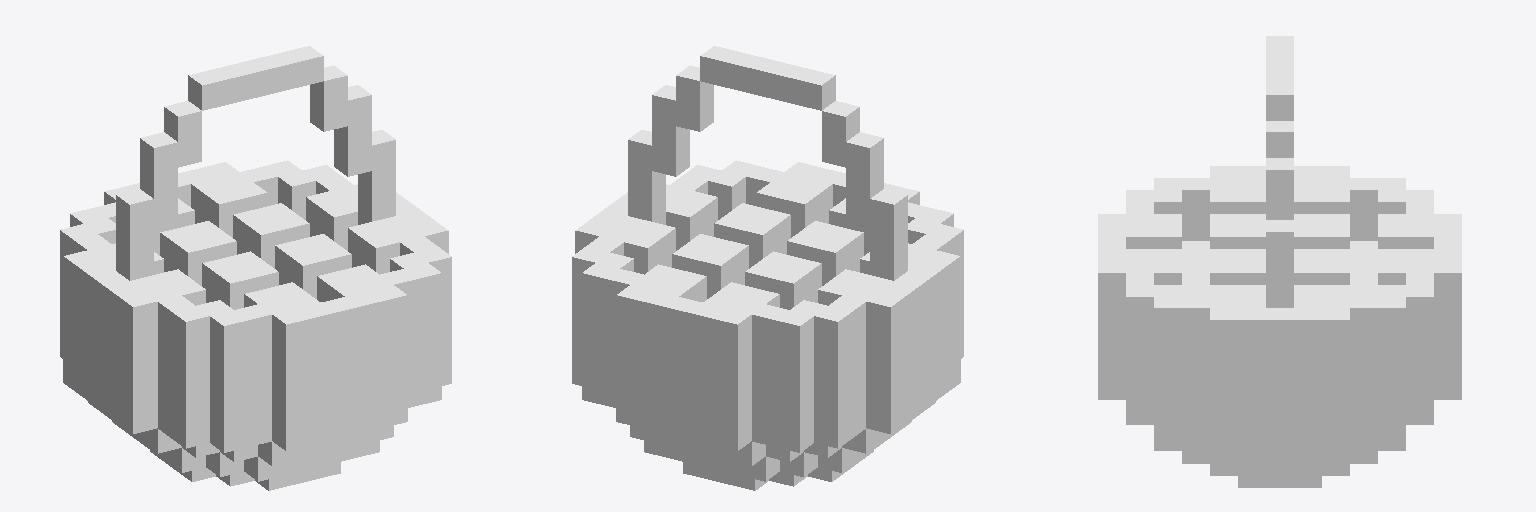
File: Egg_Basket_Level_2.obj
3 renders of one model, left to right at view 1: azimuth 30°, elevation 25°; view 2: azimuth 150°, elevation 25°; view 3: azimuth 270°, elevation 25°, orthographic.
Parts seen in each view (by area): view 1: Egg_Basket_Level_2; view 2: Egg_Basket_Level_2; view 3: Egg_Basket_Level_2.
Boxes of the visible parts, x1,y1,x2,y2 form: Egg_Basket_Level_2: [60, 46, 451, 490]; Egg_Basket_Level_2: [572, 46, 963, 490]; Egg_Basket_Level_2: [1098, 36, 1461, 487].
Size of the model in its own units: 13 by 15 by 13.